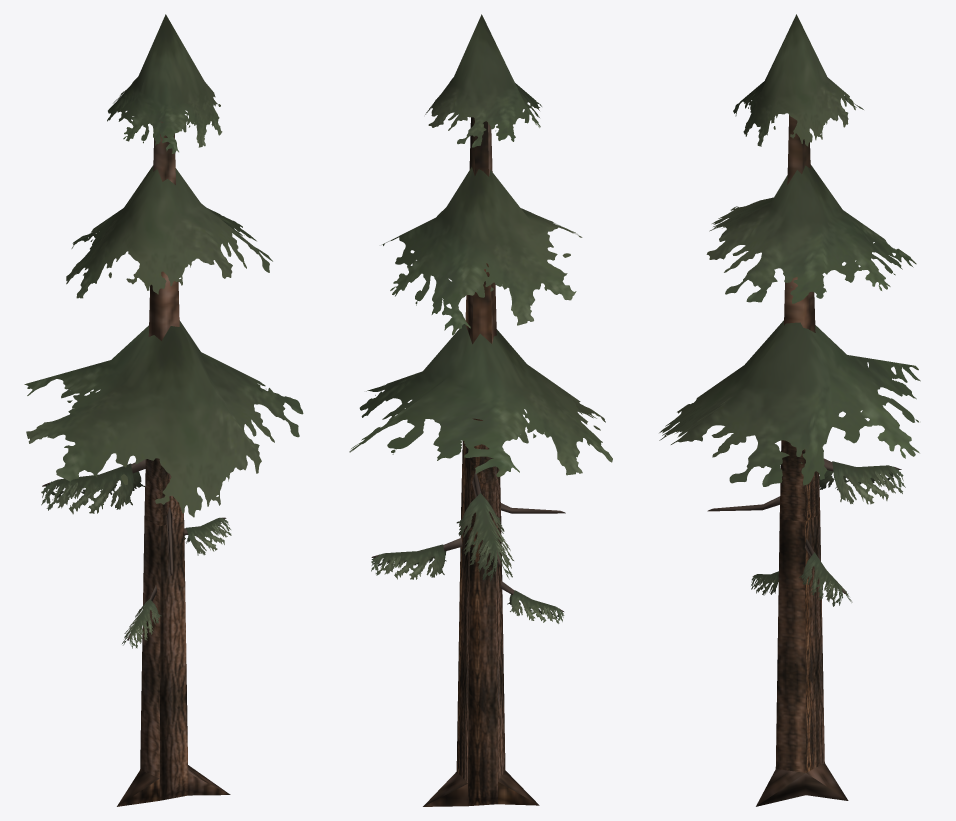
Rendered from Tree L.glb.
3 renders of one model, left to right at view 1: azimuth 30°, elevation 25°; view 2: azimuth 150°, elevation 25°; view 3: azimuth 270°, elevation 25°, orthographic.
Visible parts, largest first — view 1: Branch.002; view 2: Branch.002; view 3: Branch.002.
Boxes of the visible parts, x1,y1,x2,y2 form: Branch.002: (24,14,303,806); Branch.002: (349,14,612,806); Branch.002: (659,14,920,806).
Bounding box in the file's own units: 8.02 × 22.53 × 7.75.
Materials: 2 (2 with a texture image).
